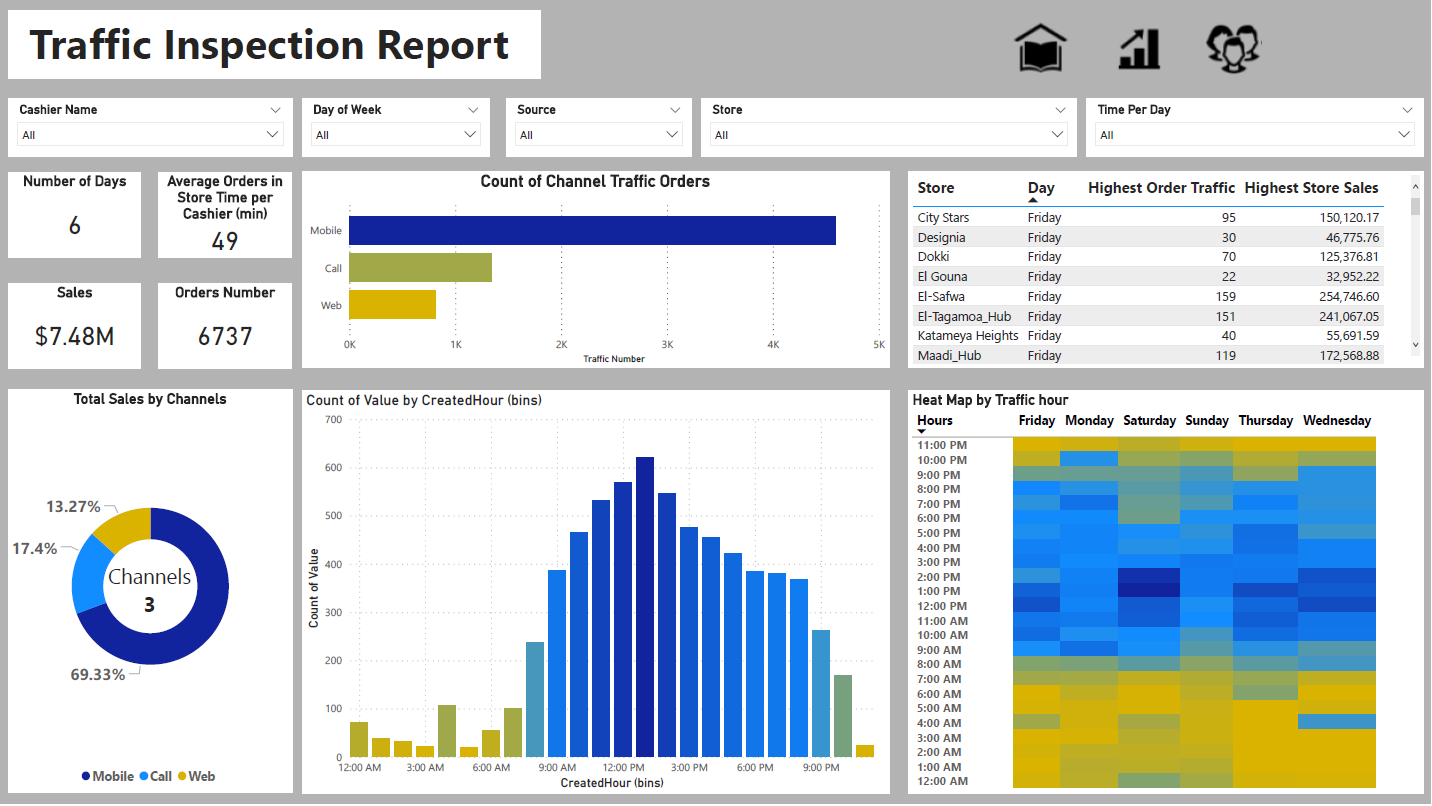

The dashboard page shown, as its layout file describes it:
{"tool":"powerbi","page":{"name":"Traffic Inscpection Report","canvas":[1664,936],"ordinal":3},"visuals":[{"type":"donutChart","title":"Total Sales by Channels","fields":{"Category":["Sales.Source"],"Y":["Sum(Sales.Value)"]},"box":[9.4,454.6,329.7,469],"z":0},{"type":"card","title":"Sales","fields":{"Values":["Sum(Sales.Value)"]},"box":[9.4,329.7,154.3,98.9],"z":1000},{"type":"card","title":"Orders Number","fields":{"Values":["CountNonNull(Sales.Source)"]},"box":[183.7,329.7,155.4,98.9],"z":2000},{"type":"textbox","box":[103.6,648.9,140.1,78.9],"z":3000},{"type":"card","title":"Number of Days","fields":{"Values":["Count(JoinedTable.CreatedDay)"]},"box":[9.4,200.2,154.3,98.9],"z":4000},{"type":"card","title":"Average Orders in Store Time per Cashier (min)","fields":{"Values":["Avg(JoinedTable.Column)"]},"box":[183.7,200.2,155.4,98.9],"z":5000},{"type":"slicer","fields":{"Values":["JoinedTable.CashierName"]},"box":[9.4,114.2,329.7,68.3],"z":6000},{"type":"slicer","fields":{"Values":["JoinedTable.CreatedDay"]},"box":[350.9,114.2,217.9,68.3],"z":7000},{"type":"slicer","fields":{"Values":["JoinedTable.Store"]},"box":[814.9,114.2,436.9,68.3],"z":8000},{"type":"slicer","fields":{"Values":["JoinedTable.Source"]},"box":[588.8,114.2,215.5,68.3],"z":9000},{"type":"slicer","fields":{"Values":["Sales.CreatedHour (bins)"]},"box":[1263.6,114.2,392.2,68.3],"z":10000},{"type":"textbox","box":[9.4,13,619.4,78.9],"z":11000},{"type":"pivotTable","title":"Heat Map by Traffic hour","fields":{"Values":["CountNonNull(Sales.Value)"],"Columns":["Sales.CreatedDay"],"Rows":["Sales.CreatedHour (bins)"]},"box":[1056.2,455,600,468.8],"z":12000},{"type":"lineClusteredColumnComboChart","fields":{"Category":["Sales.CreatedHour (bins)"],"Y":["CountNonNull(Sales.Value)"]},"box":[351.2,455,682.5,468.8],"z":13000},{"type":"clusteredBarChart","title":"Count of Channel Traffic Orders","fields":{"Category":["Sales.Source"],"Y":["CountNonNull(Sales.Value)"]},"box":[351.2,200,682.5,228.8],"z":14000},{"type":"tableEx","fields":{"Values":["Sales.Store","Sales.CreatedDay","Sales.Highest Order Traffic","Sales.Highest Store Sales"]},"box":[1056.2,200,600,228.8],"z":15000},{"type":"actionButton","box":[1174.9,20.4,76.6,71.5],"z":16000},{"type":"actionButton","box":[1288.5,20.4,76.6,71.5],"z":17000},{"type":"actionButton","box":[1399.7,20.4,76.6,71.5],"z":18000}]}

Visuals, with their boxes in screenshot pixels (x1, y1, x2, y2), scaled from the page's 1664x936 canvas onto the 1432x806 screenshot:
"Total Sales by Channels" donutChart: (left=8, top=391, right=292, bottom=795)
"Sales" card: (left=8, top=284, right=141, bottom=369)
"Orders Number" card: (left=158, top=284, right=292, bottom=369)
textbox: (left=89, top=559, right=210, bottom=627)
"Number of Days" card: (left=8, top=172, right=141, bottom=258)
"Average Orders in Store Time per Cashier (min)" card: (left=158, top=172, right=292, bottom=258)
slicer - JoinedTable.CashierName: (left=8, top=98, right=292, bottom=157)
slicer - JoinedTable.CreatedDay: (left=302, top=98, right=489, bottom=157)
slicer - JoinedTable.Store: (left=701, top=98, right=1077, bottom=157)
slicer - JoinedTable.Source: (left=507, top=98, right=692, bottom=157)
slicer - Sales.CreatedHour (bins): (left=1087, top=98, right=1425, bottom=157)
textbox: (left=8, top=11, right=541, bottom=79)
"Heat Map by Traffic hour" pivotTable: (left=909, top=392, right=1425, bottom=795)
lineClusteredColumnComboChart - Sales.CreatedHour (bins) x CountNonNull(Sales.Value): (left=302, top=392, right=890, bottom=795)
"Count of Channel Traffic Orders" clusteredBarChart: (left=302, top=172, right=890, bottom=369)
tableEx - Sales.Store x Sales.CreatedDay: (left=909, top=172, right=1425, bottom=369)
actionButton: (left=1011, top=18, right=1077, bottom=79)
actionButton: (left=1109, top=18, right=1175, bottom=79)
actionButton: (left=1205, top=18, right=1270, bottom=79)
